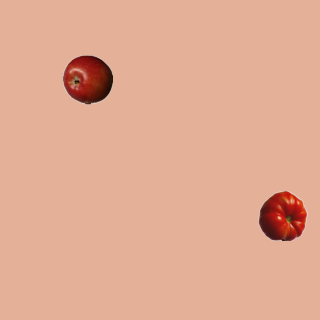Apple Braeburn: (62, 54, 112, 104)
Tomato 3: (257, 190, 307, 240)
